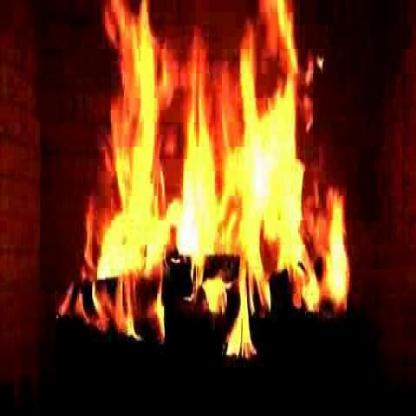fire: (40, 1, 371, 361)
